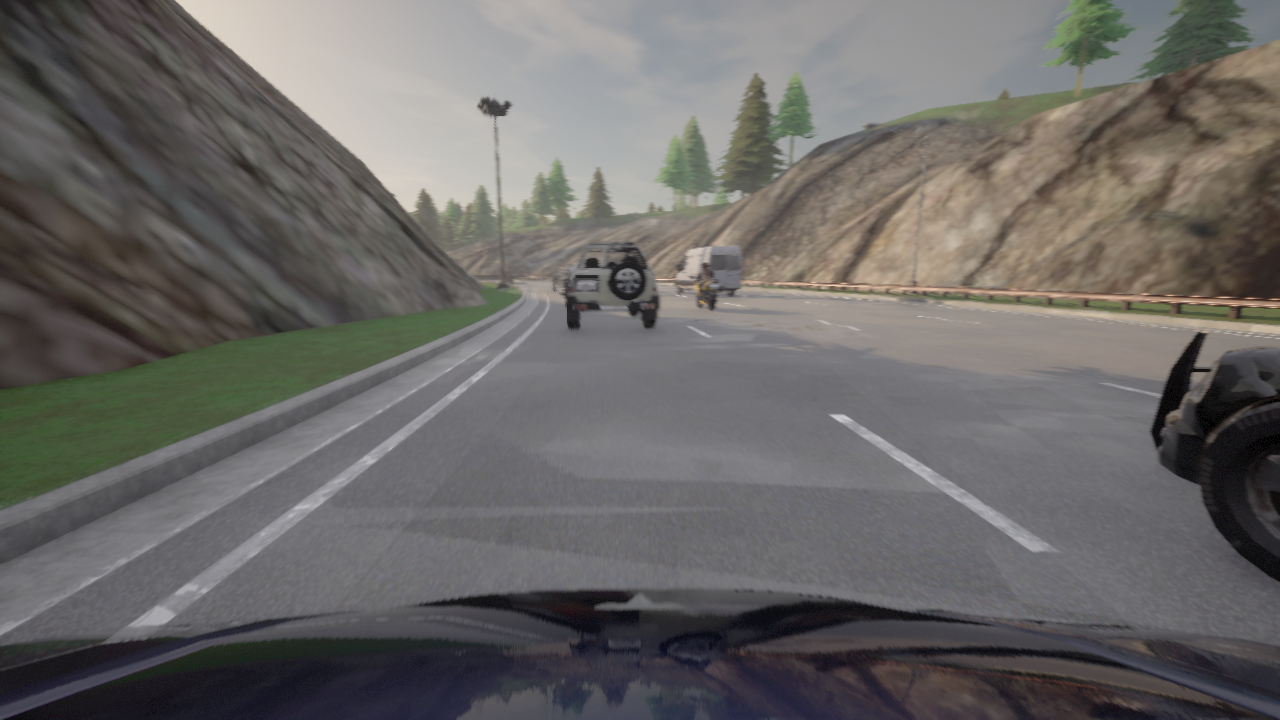cyclist: (0, 588, 1279, 719), (1149, 331, 1279, 581), (566, 242, 659, 329), (675, 246, 742, 295), (689, 274, 718, 310), (551, 265, 568, 293), (556, 267, 571, 297), (505, 274, 512, 283)
